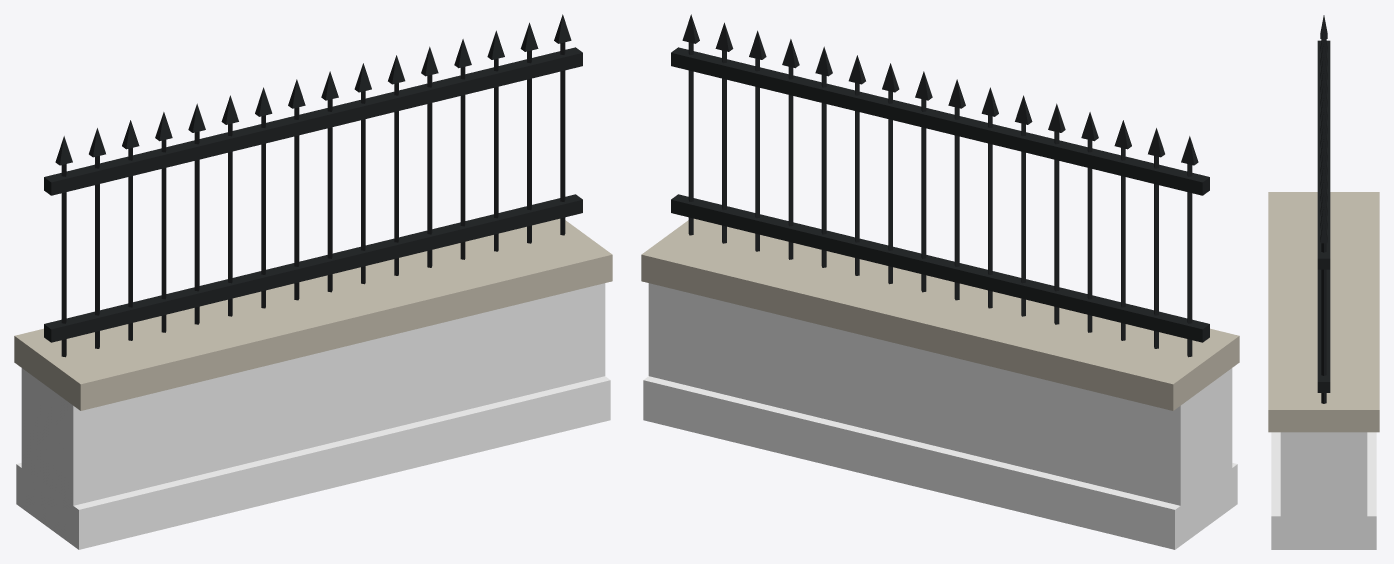
Rendered from railing.glb.
3 views of the same model, side by side, from view 1: azimuth 30°, elevation 25°; view 2: azimuth 150°, elevation 25°; view 3: azimuth 270°, elevation 25° (orthographic). The views are drawn at different scales.
Visible parts, largest first — view 1: railing; view 2: railing; view 3: railing.
Boxes of the visible parts, box(x1,y1,x2,y2) form: railing: box(14, 14, 612, 549); railing: box(641, 14, 1239, 549); railing: box(1268, 15, 1379, 549).
Bounding box in the file's own units: 2 × 1.39 × 0.432.
